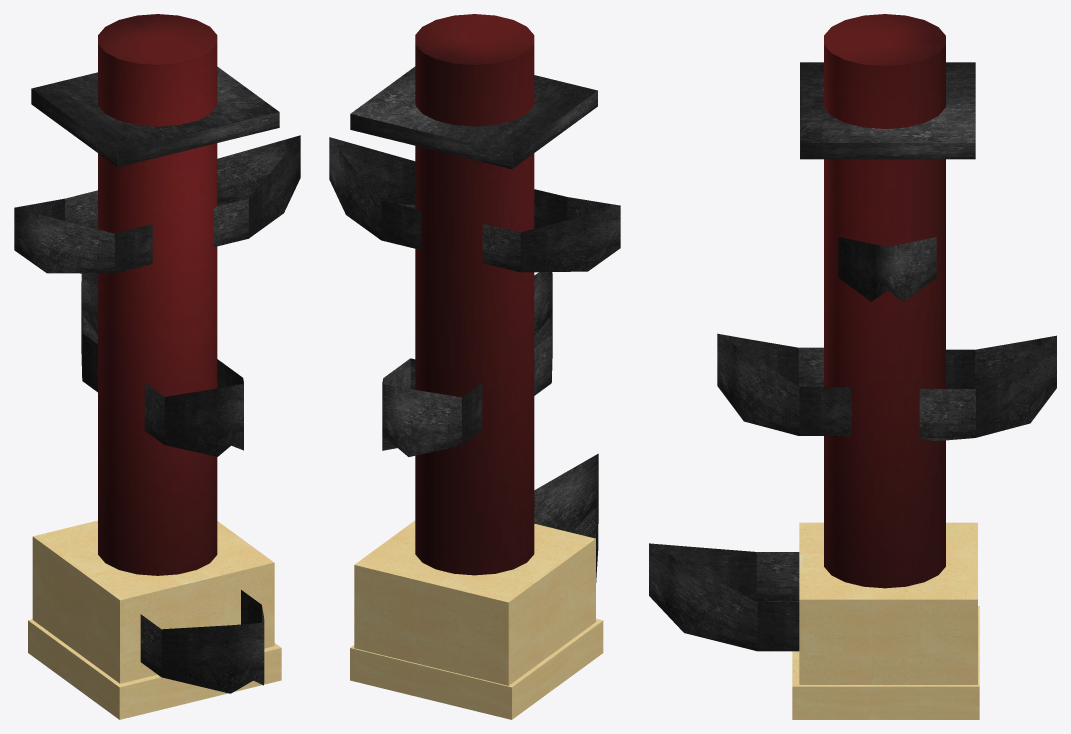
3 views of the same model, side by side, from view 1: azimuth 30°, elevation 25°; view 2: azimuth 150°, elevation 25°; view 3: azimuth 270°, elevation 25° (orthographic). The views are drawn at different scales.
Visible parts, largest first — view 1: Cylinder001, Box002, Box003, Box012, Box007, Box001, Box011, Box009, Box010; view 2: Cylinder001, Box002, Box003, Box001, Box012, Box011, Box010, Box007, Box009; view 3: Cylinder001, Box002, Box007, Box010, Box009, Box003, Box001, Box011.
Boxes of the visible parts, x1=… form: Cylinder001: x1=98, y1=14, x2=217, y2=575; Box002: x1=32, y1=520, x2=274, y2=683; Box003: x1=31, y1=66, x2=279, y2=167; Box012: x1=14, y1=190, x2=152, y2=273; Box007: x1=140, y1=590, x2=264, y2=693; Box001: x1=28, y1=619, x2=281, y2=719; Box011: x1=214, y1=135, x2=300, y2=246; Box009: x1=144, y1=359, x2=243, y2=456; Box010: x1=81, y1=273, x2=97, y2=392; Cylinder001: x1=415, y1=14, x2=534, y2=575; Box002: x1=354, y1=520, x2=595, y2=685; Box003: x1=350, y1=66, x2=597, y2=169; Box001: x1=350, y1=618, x2=603, y2=719; Box012: x1=482, y1=189, x2=620, y2=272; Box011: x1=329, y1=137, x2=421, y2=249; Box010: x1=382, y1=358, x2=482, y2=456; Box007: x1=534, y1=453, x2=598, y2=582; Box009: x1=534, y1=272, x2=552, y2=395; Cylinder001: x1=824, y1=14, x2=945, y2=588; Box002: x1=799, y1=522, x2=977, y2=684; Box007: x1=649, y1=543, x2=799, y2=651; Box010: x1=919, y1=335, x2=1056, y2=441; Box009: x1=717, y1=333, x2=851, y2=435; Box003: x1=800, y1=62, x2=975, y2=159; Box001: x1=792, y1=606, x2=979, y2=719; Box011: x1=838, y1=237, x2=936, y2=301.
Size of the model in its own units: 105 by 217 by 125.
Materials: 3 (3 with a texture image).
